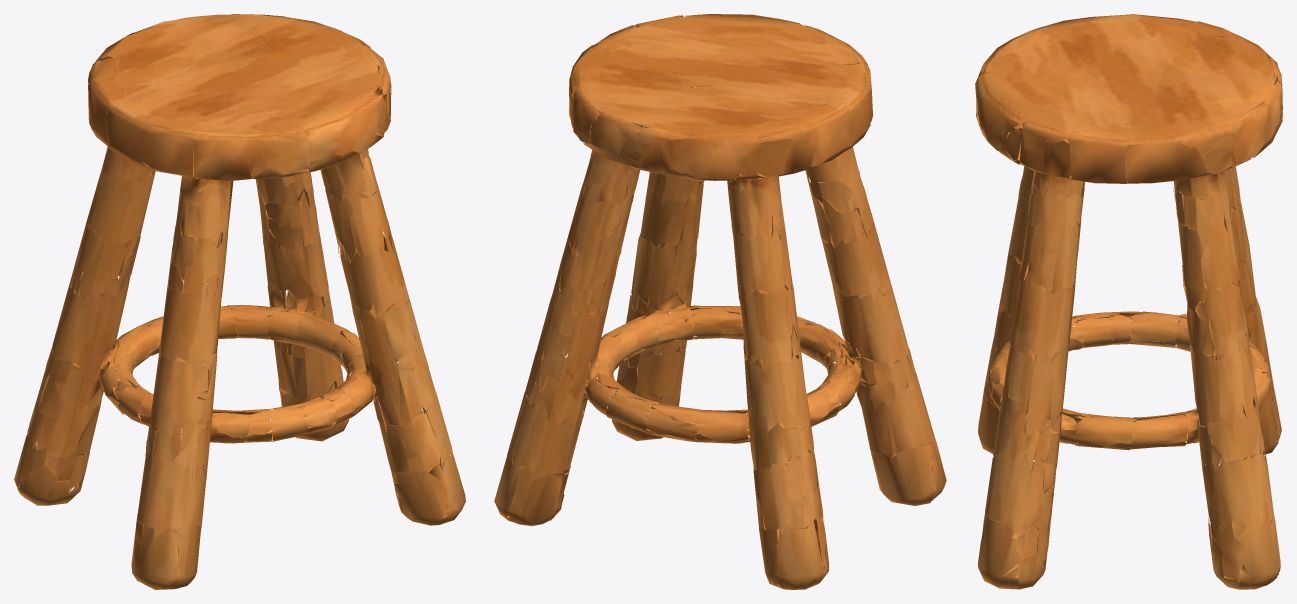
The model's file is stool.glb.
3 renders of one model, left to right at view 1: azimuth 30°, elevation 25°; view 2: azimuth 150°, elevation 25°; view 3: azimuth 270°, elevation 25°, orthographic.
Parts seen in each view (by area): view 1: stool; view 2: stool; view 3: stool.
Part boxes in pixels (x1,y1,x2,y2): stool: [14, 14, 465, 589]; stool: [494, 14, 946, 589]; stool: [975, 14, 1282, 589].
Bounding box in the file's own units: 0.407 × 0.5214 × 0.3283.
1 material, 1 textured.
